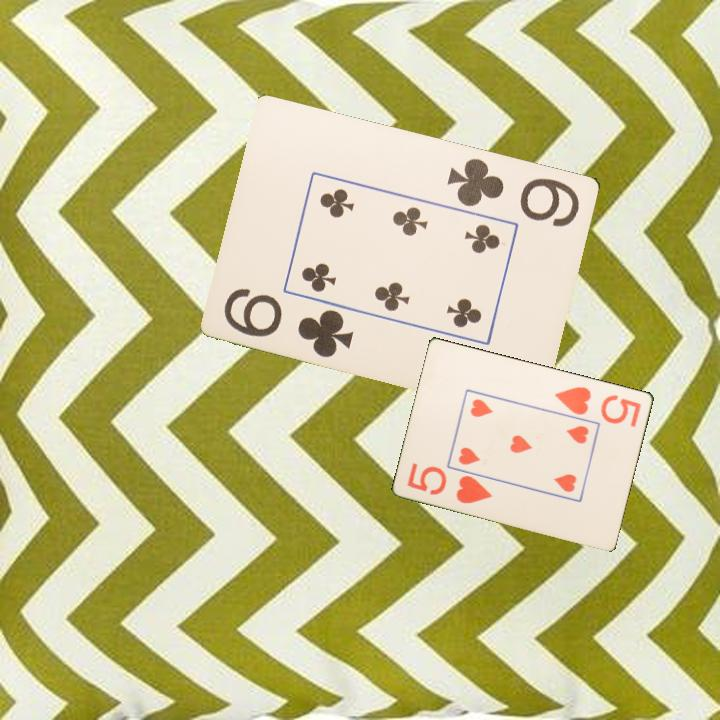5h: (551, 383, 644, 430), (404, 459, 495, 506)
6c: (444, 154, 583, 230), (220, 284, 357, 360)
